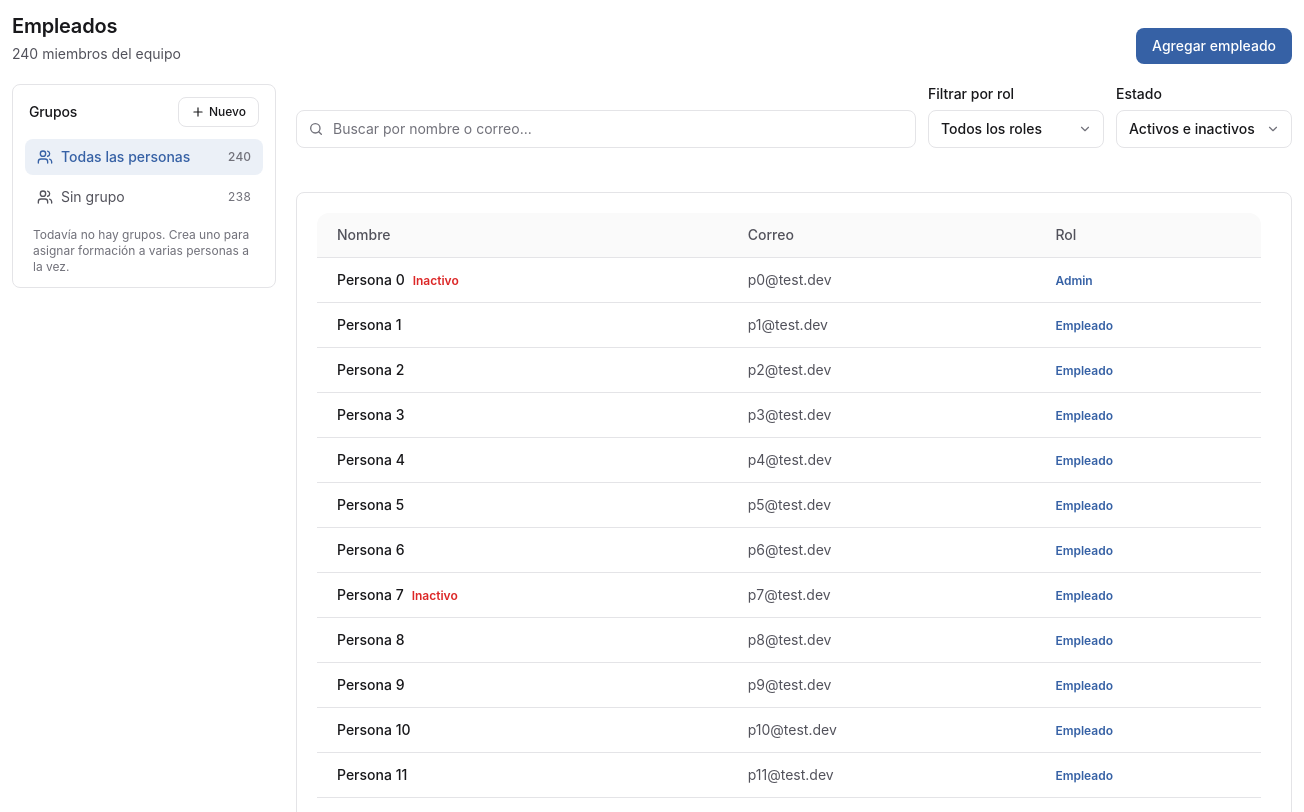
Test: Employees at scale › searching narrows the query, not the page already in hand
The image size is (1304, 812).
Type "Persona 137" into the search field with placeholder "Buscar por nombre o correo..." at [606, 129], box [296,110,916,148]
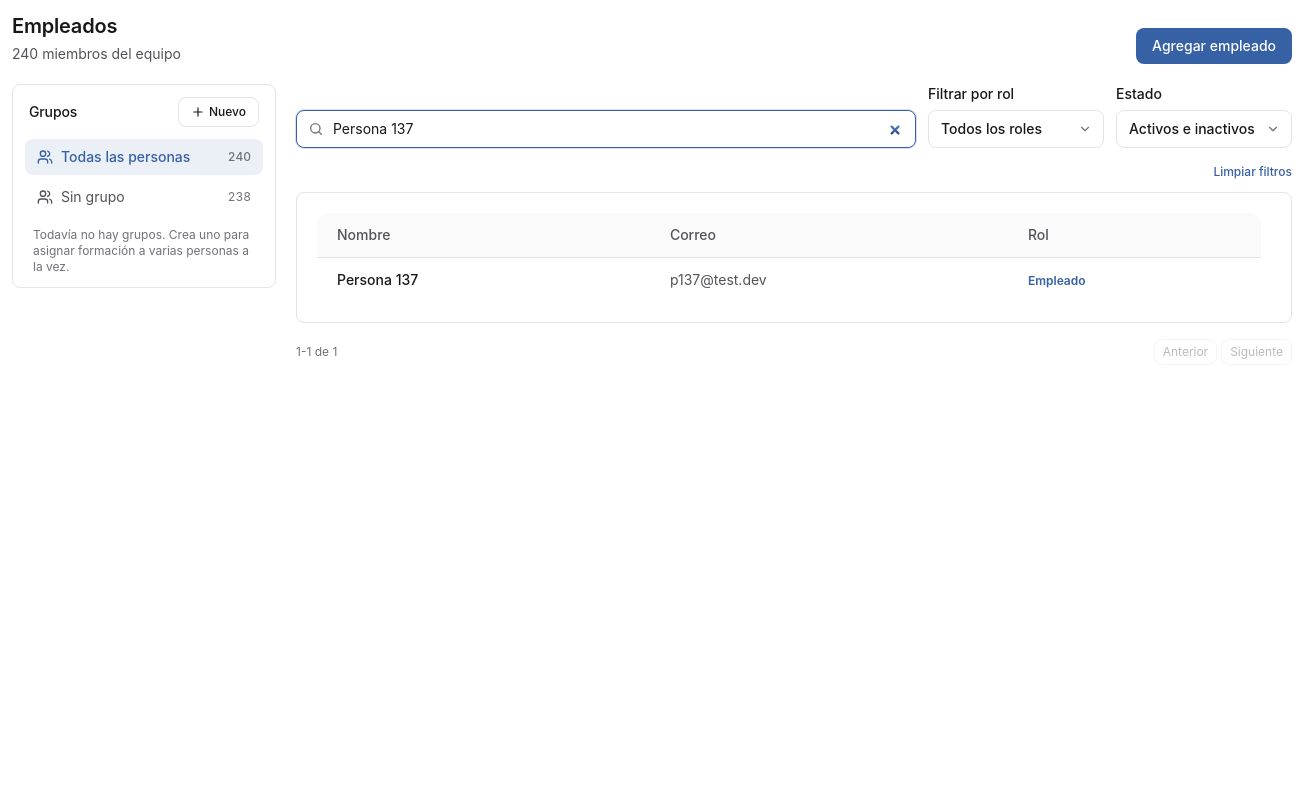
Now the text "Persona 137" is shown, box [337,271,418,288]
